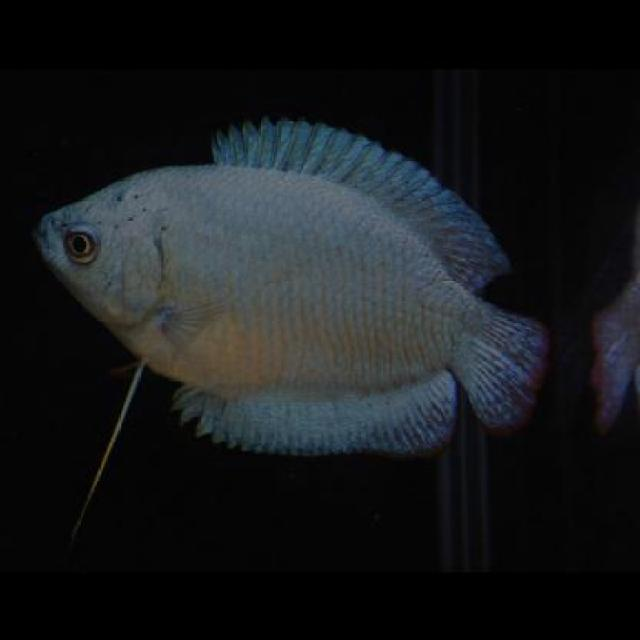Gourami: (35, 111, 550, 452)
